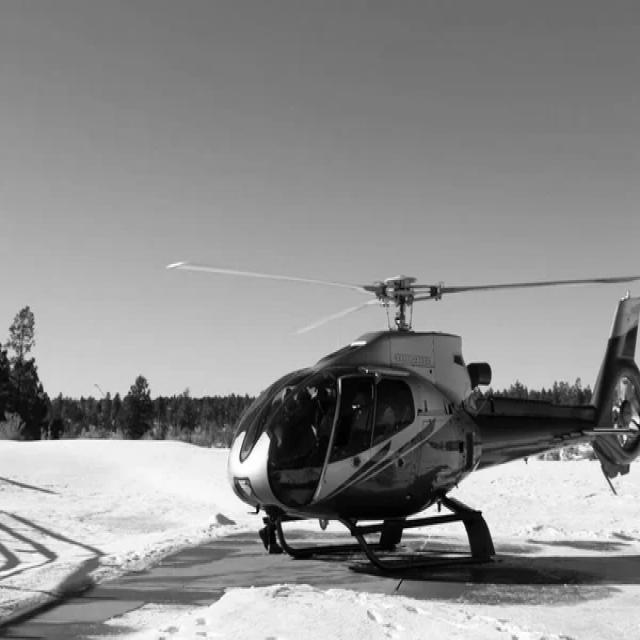Helicopter: (228, 277, 640, 572)
